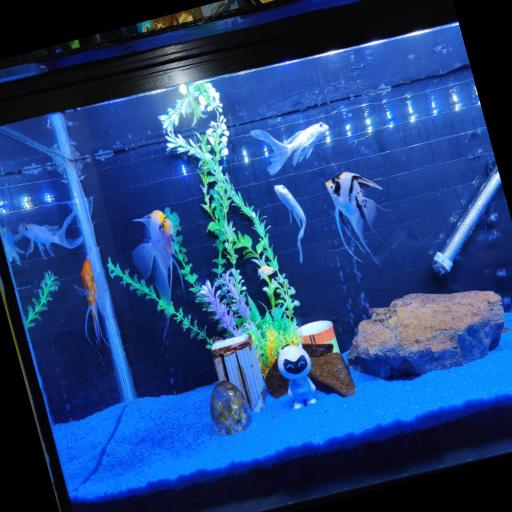Fish: (326, 172, 382, 265), (133, 210, 184, 307), (250, 122, 329, 175), (75, 250, 108, 354), (18, 211, 83, 259), (274, 185, 306, 263), (2, 227, 23, 264), (258, 265, 275, 278)
